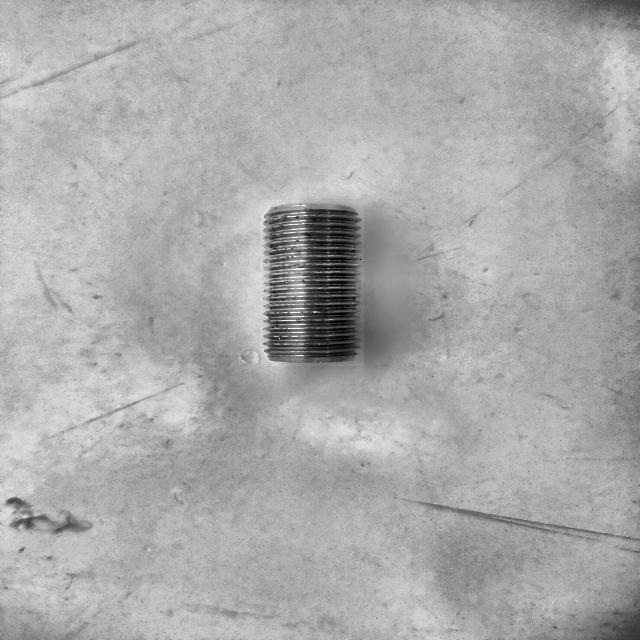Normal: (260, 200, 364, 366)
